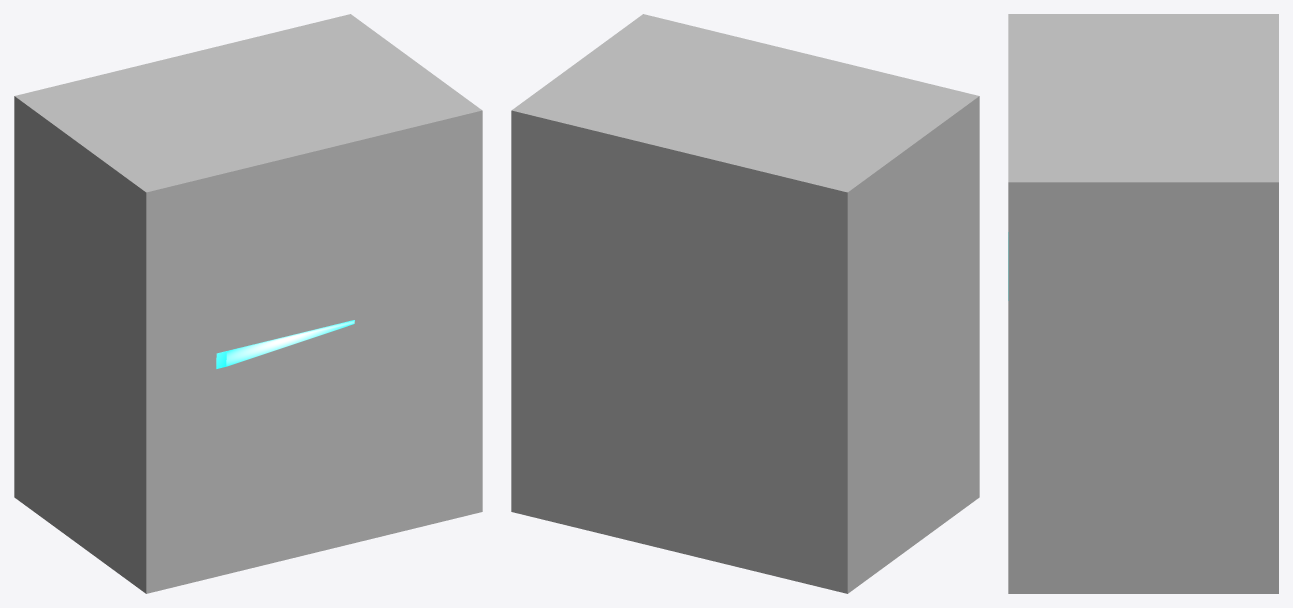
File: SM_CyberHead.fbx
3 views of the same model, side by side, from view 1: azimuth 30°, elevation 25°; view 2: azimuth 150°, elevation 25°; view 3: azimuth 270°, elevation 25° (orthographic). The views are drawn at different scales.
Visible parts, largest first — view 1: SM_CyberHead_ConvexHulls, SM_CyberHead; view 2: SM_CyberHead_ConvexHulls; view 3: SM_CyberHead_ConvexHulls.
Part boxes in pixels (bbox=[...]): SM_CyberHead_ConvexHulls: bbox=[14, 14, 482, 593]; SM_CyberHead: bbox=[216, 320, 354, 368]; SM_CyberHead_ConvexHulls: bbox=[511, 14, 979, 593]; SM_CyberHead_ConvexHulls: bbox=[1008, 14, 1278, 593].
Bounding box in the file's own units: 793 × 539 × 905.
Materials: 2 (1 with a texture image).
